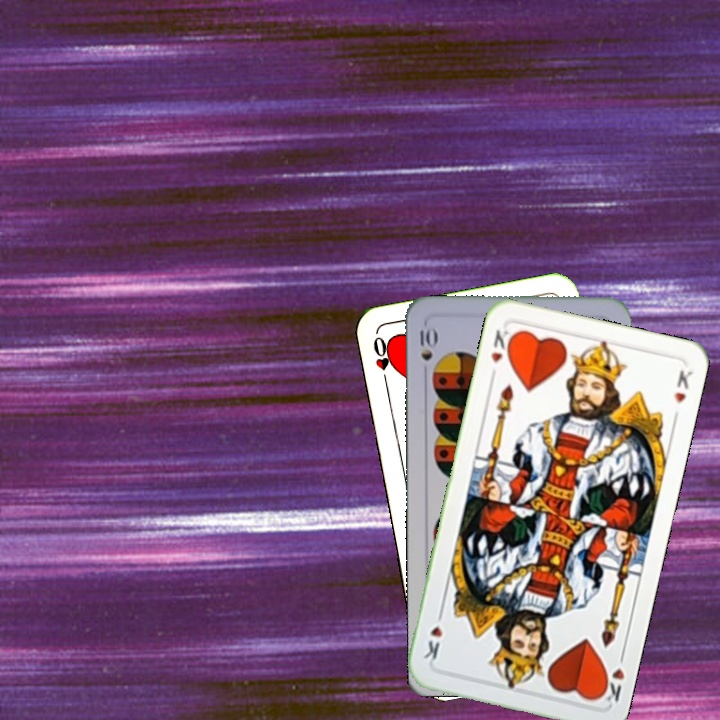HK: (595, 647, 628, 706), (486, 322, 516, 365)
HO: (369, 332, 396, 390)
S10: (413, 323, 438, 380)
